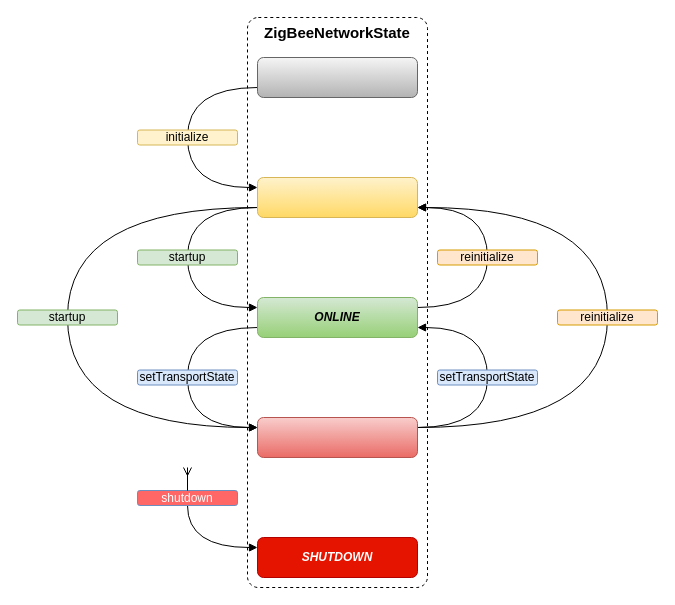
Some shapes in this 675 by 605 pixel diagram are drawn without their labels. The shapes that lost their labels are listed below. From the top down, each one's centre as x and y in pixels, then its label:
the point at 337,77: UNINITIALISED
the point at 337,197: INITIALISING
the point at 337,437: OFFLINE
